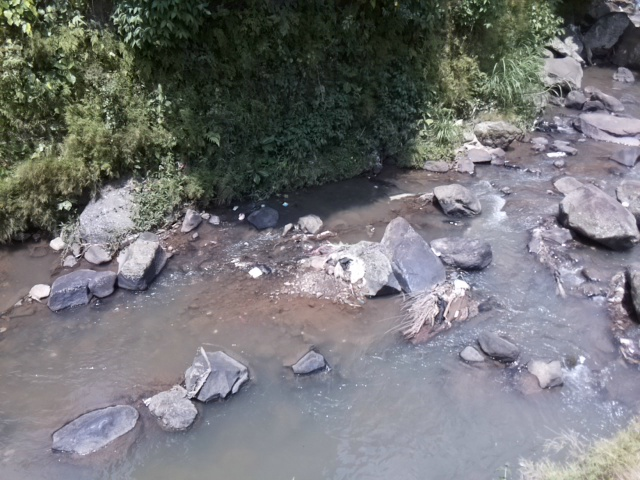Sampah_Styrofoam: (247, 266, 264, 279)
